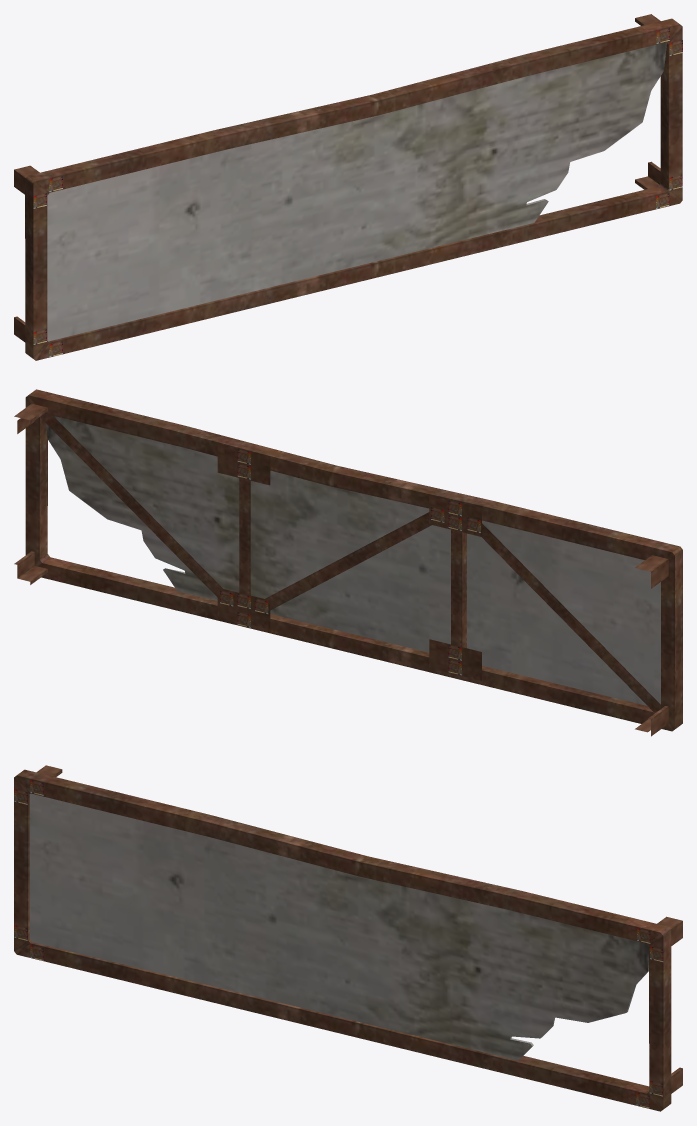
The model's file is rentable_shop_sign_e.glb.
The picture shows the model from 3 angles, top to bottom: view 1: azimuth 30°, elevation 25°; view 2: azimuth 150°, elevation 25°; view 3: azimuth 330°, elevation 25°; orthographic projection.
Parts seen in each view (by area): view 1: rentable_shop_sign_E_LOD0; view 2: rentable_shop_sign_E_LOD0; view 3: rentable_shop_sign_E_LOD0.
Part boxes in pixels (x1,y1,x2,y2): rentable_shop_sign_E_LOD0: (14, 14, 682, 360); rentable_shop_sign_E_LOD0: (14, 389, 682, 736); rentable_shop_sign_E_LOD0: (14, 765, 682, 1111).
Bounding box in the file's own units: 2.04 × 0.5383 × 0.1396.
3 materials, 3 textured.
